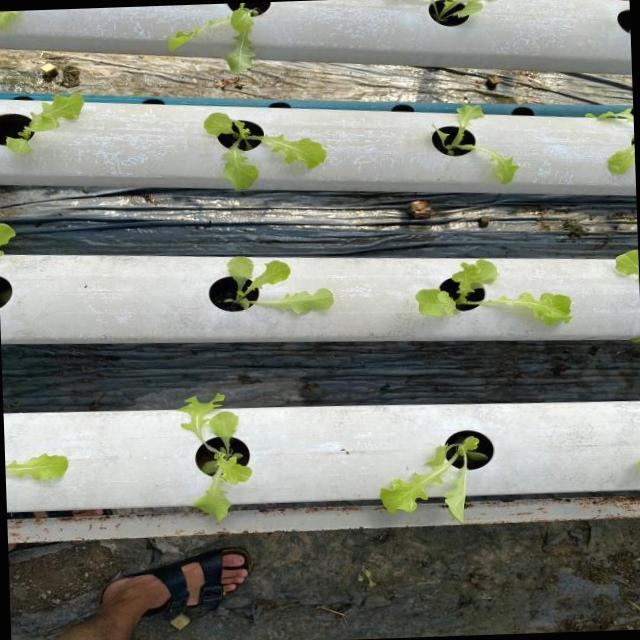Lettuce-Not-Ready-to-Harvest: (180, 394, 252, 521), (380, 435, 484, 522), (435, 105, 519, 183), (168, 2, 257, 72), (227, 257, 333, 314), (5, 94, 84, 153), (415, 259, 497, 315), (204, 112, 259, 188), (476, 292, 571, 325), (259, 134, 326, 167), (5, 454, 67, 479), (607, 144, 635, 174), (616, 249, 639, 278)
